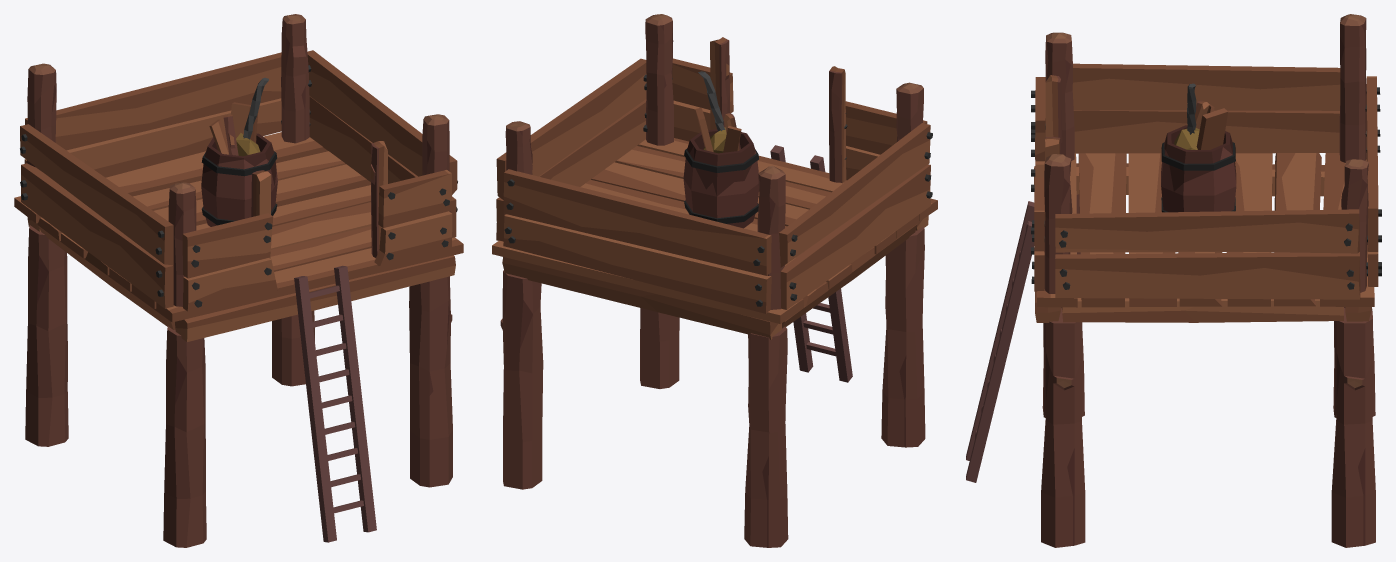
The model's file is watchtower.fbx.
The picture shows the model from 3 angles, left to right: view 1: azimuth 30°, elevation 25°; view 2: azimuth 150°, elevation 25°; view 3: azimuth 270°, elevation 25°; orthographic projection. The views are drawn at different scales.
Visible parts, largest first — view 1: watchtower, ladder, barrel, stuff_in_barrel; view 2: watchtower, barrel, ladder, stuff_in_barrel; view 3: watchtower, barrel, ladder, stuff_in_barrel.
Boxes of the visible parts, <box> form: watchtower: <box>14,14,463,547</box>; ladder: <box>294,265,376,542</box>; barrel: <box>201,133,277,226</box>; stuff_in_barrel: <box>209,77,268,156</box>; watchtower: <box>492,14,937,547</box>; barrel: <box>683,129,758,228</box>; ladder: <box>770,145,852,382</box>; stuff_in_barrel: <box>695,71,741,153</box>; watchtower: <box>1031,14,1381,547</box>; barrel: <box>1161,125,1236,212</box>; ladder: <box>966,201,1034,482</box>; stuff_in_barrel: <box>1174,83,1227,149</box>.
Size of the model in its own units: 160 by 195 by 183.
